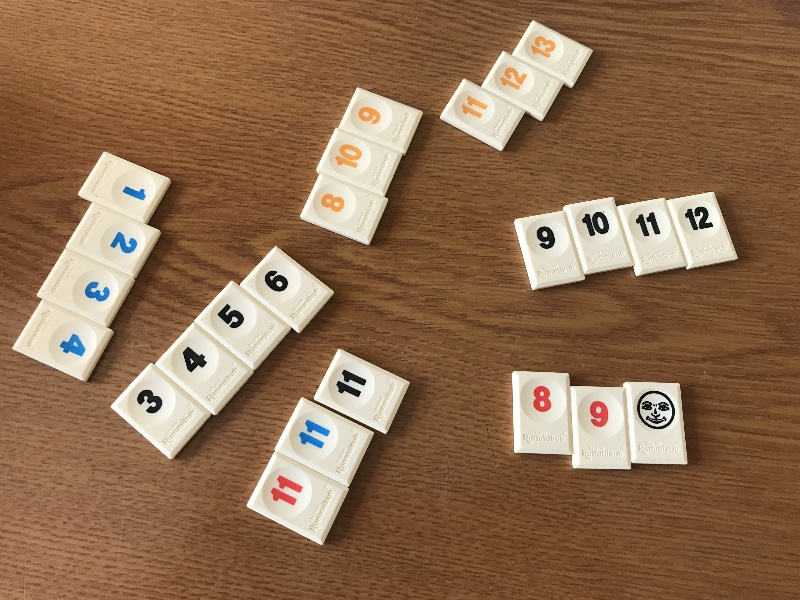single_tile: (154, 319, 258, 418), (111, 363, 212, 462), (246, 452, 351, 547), (191, 279, 294, 373), (274, 397, 375, 487), (10, 299, 114, 383), (314, 346, 411, 435), (240, 246, 338, 333), (37, 248, 137, 327), (438, 76, 527, 155), (65, 203, 161, 276), (78, 151, 172, 223), (299, 173, 388, 247), (480, 50, 566, 122), (514, 209, 585, 294), (317, 128, 404, 196), (339, 86, 424, 155), (562, 196, 635, 276), (569, 384, 633, 473), (668, 190, 739, 270), (512, 19, 594, 88), (513, 369, 576, 458), (625, 380, 689, 466), (619, 198, 687, 276)
tile_row: (109, 244, 335, 461), (14, 147, 173, 385), (245, 347, 413, 546), (514, 190, 738, 292), (438, 19, 595, 153), (299, 85, 426, 250), (511, 366, 691, 473)
